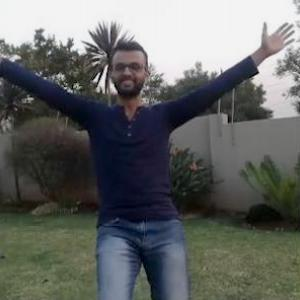takeoff: (1, 32, 291, 299)
